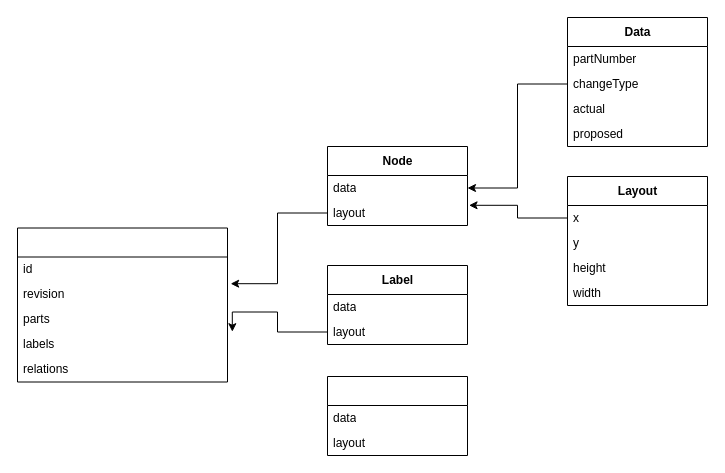
Some shapes in this 725 by 473 pixel diagram are drawn without their labels. The box of each missing label's shape, as (x1, y1, x2, y2) in pixels:
@Document('sample-graph'): (16, 227, 228, 382)
Edge: (326, 376, 468, 456)
